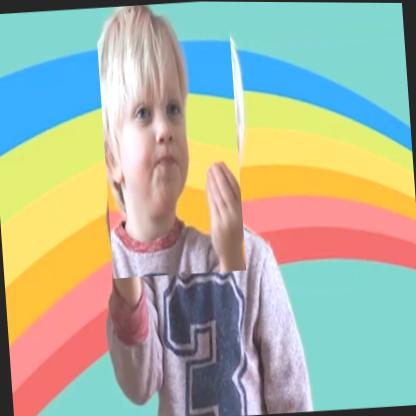Food: (94, 1, 246, 279)
